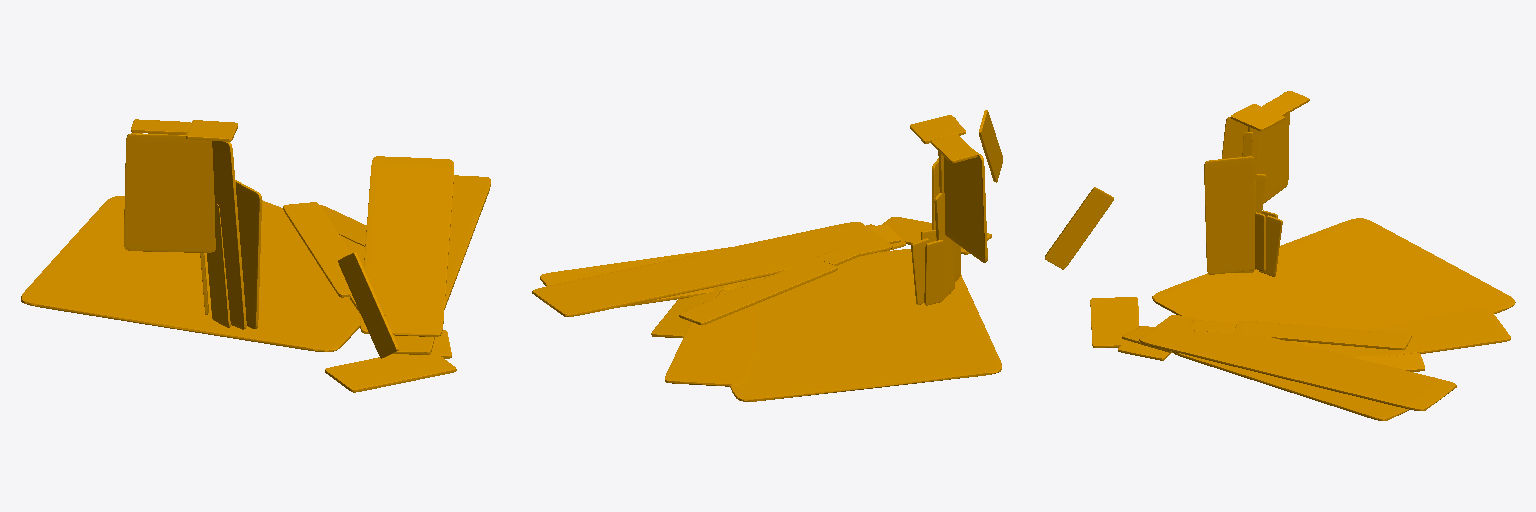
The robot description file, URDF, robot "scene":
<?xml version='1.0' encoding='utf-8'?>
<robot name="scene"><link name="scene_link"><visual><origin xyz="0.000000 0.000000 0.000000" rpy="0.000000 -0.000000 0.000000" /><geometry><mesh filename="part_000.obj" /></geometry></visual><collision><origin xyz="0.000000 0.000000 0.000000" rpy="0.000000 -0.000000 0.000000" /><geometry><mesh filename="part_000.obj" /></geometry></collision><visual><origin xyz="0.000000 0.000000 0.000000" rpy="0.000000 -0.000000 0.000000" /><geometry><mesh filename="part_001.obj" /></geometry></visual><collision><origin xyz="0.000000 0.000000 0.000000" rpy="0.000000 -0.000000 0.000000" /><geometry><mesh filename="part_001.obj" /></geometry></collision><visual><origin xyz="0.000000 0.000000 0.000000" rpy="0.000000 -0.000000 0.000000" /><geometry><mesh filename="part_002.obj" /></geometry></visual><collision><origin xyz="0.000000 0.000000 0.000000" rpy="0.000000 -0.000000 0.000000" /><geometry><mesh filename="part_002.obj" /></geometry></collision><visual><origin xyz="0.000000 0.000000 0.000000" rpy="0.000000 -0.000000 0.000000" /><geometry><mesh filename="part_003.obj" /></geometry></visual><collision><origin xyz="0.000000 0.000000 0.000000" rpy="0.000000 -0.000000 0.000000" /><geometry><mesh filename="part_003.obj" /></geometry></collision><visual><origin xyz="0.000000 0.000000 0.000000" rpy="0.000000 -0.000000 0.000000" /><geometry><mesh filename="part_004.obj" /></geometry></visual><collision><origin xyz="0.000000 0.000000 0.000000" rpy="0.000000 -0.000000 0.000000" /><geometry><mesh filename="part_004.obj" /></geometry></collision><visual><origin xyz="0.000000 0.000000 0.000000" rpy="0.000000 -0.000000 0.000000" /><geometry><mesh filename="part_005.obj" /></geometry></visual><collision><origin xyz="0.000000 0.000000 0.000000" rpy="0.000000 -0.000000 0.000000" /><geometry><mesh filename="part_005.obj" /></geometry></collision><visual><origin xyz="0.000000 0.000000 0.000000" rpy="0.000000 -0.000000 0.000000" /><geometry><mesh filename="part_006.obj" /></geometry></visual><collision><origin xyz="0.000000 0.000000 0.000000" rpy="0.000000 -0.000000 0.000000" /><geometry><mesh filename="part_006.obj" /></geometry></collision><visual><origin xyz="0.000000 0.000000 0.000000" rpy="0.000000 -0.000000 0.000000" /><geometry><mesh filename="part_007.obj" /></geometry></visual><collision><origin xyz="0.000000 0.000000 0.000000" rpy="0.000000 -0.000000 0.000000" /><geometry><mesh filename="part_007.obj" /></geometry></collision><visual><origin xyz="0.000000 0.000000 0.000000" rpy="0.000000 -0.000000 0.000000" /><geometry><mesh filename="part_008.obj" /></geometry></visual><collision><origin xyz="0.000000 0.000000 0.000000" rpy="0.000000 -0.000000 0.000000" /><geometry><mesh filename="part_008.obj" /></geometry></collision><visual><origin xyz="0.000000 0.000000 0.000000" rpy="0.000000 -0.000000 0.000000" /><geometry><mesh filename="part_009.obj" /></geometry></visual><collision><origin xyz="0.000000 0.000000 0.000000" rpy="0.000000 -0.000000 0.000000" /><geometry><mesh filename="part_009.obj" /></geometry></collision><visual><origin xyz="0.000000 0.000000 0.000000" rpy="0.000000 -0.000000 0.000000" /><geometry><mesh filename="part_010.obj" /></geometry></visual><collision><origin xyz="0.000000 0.000000 0.000000" rpy="0.000000 -0.000000 0.000000" /><geometry><mesh filename="part_010.obj" /></geometry></collision><visual><origin xyz="0.000000 0.000000 0.000000" rpy="0.000000 -0.000000 0.000000" /><geometry><mesh filename="part_011.obj" /></geometry></visual><collision><origin xyz="0.000000 0.000000 0.000000" rpy="0.000000 -0.000000 0.000000" /><geometry><mesh filename="part_011.obj" /></geometry></collision><visual><origin xyz="0.000000 0.000000 0.000000" rpy="0.000000 -0.000000 0.000000" /><geometry><mesh filename="part_012.obj" /></geometry></visual><collision><origin xyz="0.000000 0.000000 0.000000" rpy="0.000000 -0.000000 0.000000" /><geometry><mesh filename="part_012.obj" /></geometry></collision><visual><origin xyz="0.000000 0.000000 0.000000" rpy="0.000000 -0.000000 0.000000" /><geometry><mesh filename="part_013.obj" /></geometry></visual><collision><origin xyz="0.000000 0.000000 0.000000" rpy="0.000000 -0.000000 0.000000" /><geometry><mesh filename="part_013.obj" /></geometry></collision><visual><origin xyz="0.000000 0.000000 0.000000" rpy="0.000000 -0.000000 0.000000" /><geometry><mesh filename="part_014.obj" /></geometry></visual><collision><origin xyz="0.000000 0.000000 0.000000" rpy="0.000000 -0.000000 0.000000" /><geometry><mesh filename="part_014.obj" /></geometry></collision><visual><origin xyz="0.000000 0.000000 0.000000" rpy="0.000000 -0.000000 0.000000" /><geometry><mesh filename="part_015.obj" /></geometry></visual><collision><origin xyz="0.000000 0.000000 0.000000" rpy="0.000000 -0.000000 0.000000" /><geometry><mesh filename="part_015.obj" /></geometry></collision><visual><origin xyz="0.000000 0.000000 0.000000" rpy="0.000000 -0.000000 0.000000" /><geometry><mesh filename="part_016.obj" /></geometry></visual><collision><origin xyz="0.000000 0.000000 0.000000" rpy="0.000000 -0.000000 0.000000" /><geometry><mesh filename="part_016.obj" /></geometry></collision><visual><origin xyz="0.000000 0.000000 0.000000" rpy="0.000000 -0.000000 0.000000" /><geometry><mesh filename="part_017.obj" /></geometry></visual><collision><origin xyz="0.000000 0.000000 0.000000" rpy="0.000000 -0.000000 0.000000" /><geometry><mesh filename="part_017.obj" /></geometry></collision><visual><origin xyz="0.000000 0.000000 0.000000" rpy="0.000000 -0.000000 0.000000" /><geometry><mesh filename="part_018.obj" /></geometry></visual><collision><origin xyz="0.000000 0.000000 0.000000" rpy="0.000000 -0.000000 0.000000" /><geometry><mesh filename="part_018.obj" /></geometry></collision><visual><origin xyz="0.000000 0.000000 0.000000" rpy="0.000000 -0.000000 0.000000" /><geometry><mesh filename="part_019.obj" /></geometry></visual><collision><origin xyz="0.000000 0.000000 0.000000" rpy="0.000000 -0.000000 0.000000" /><geometry><mesh filename="part_019.obj" /></geometry></collision><visual><origin xyz="0.000000 0.000000 0.000000" rpy="0.000000 -0.000000 0.000000" /><geometry><mesh filename="part_020.obj" /></geometry></visual><collision><origin xyz="0.000000 0.000000 0.000000" rpy="0.000000 -0.000000 0.000000" /><geometry><mesh filename="part_020.obj" /></geometry></collision></link></robot>

--- What the picture shows (computed from the rendered views, not written in the file) ---
3 views of the same robot in one strip: view 1: azimuth 30°, elevation 25°; view 2: azimuth 150°, elevation 25°; view 3: azimuth 270°, elevation 25° (orthographic).
Model scene with 1 links and 0 joints (none), rooted at scene_link, posed all joints at 0.
Visible links, largest first — view 1: scene_link; view 2: scene_link; view 3: scene_link.
Link boxes in pixels (x1,y1,x2,y2): scene_link: (21,119,490,392); scene_link: (532,110,1002,401); scene_link: (1045,91,1515,420).
Bounding box of the posed robot: 6.5 × 6.58 × 2.68 m (x, y, z).
Meshes: 21 distinct files referenced, 21 mesh visuals loaded (21 OBJ).